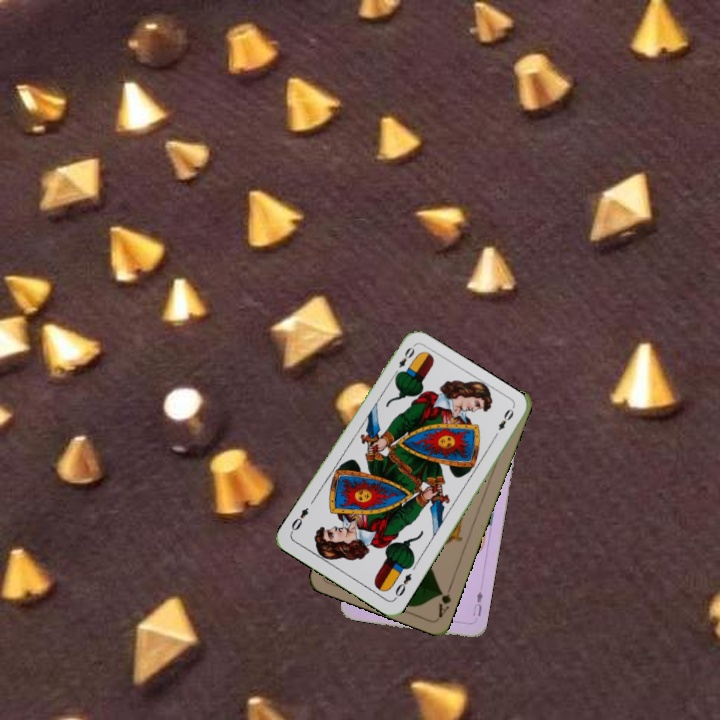EO: (389, 343, 417, 379), (391, 569, 414, 602)
EU: (469, 587, 485, 619)
GA: (434, 580, 455, 620)
